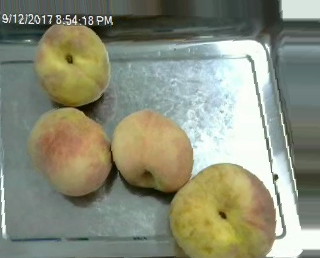Peach: (170, 164, 276, 257), (28, 107, 111, 196), (111, 109, 195, 191), (35, 21, 112, 106)
